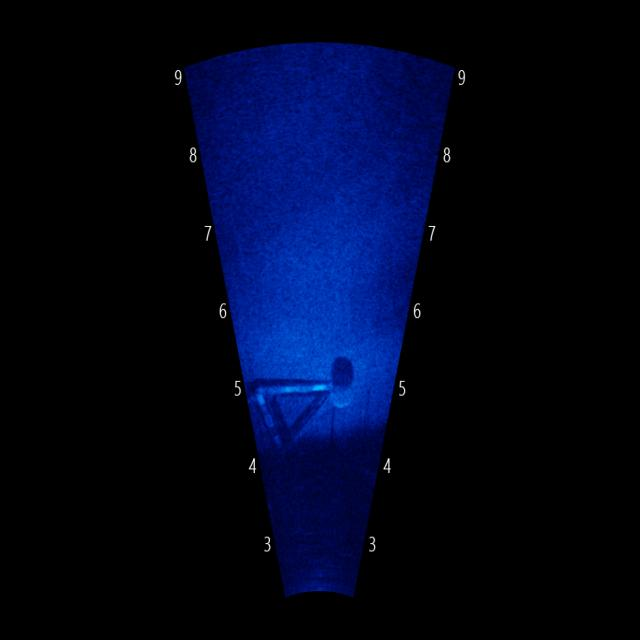triangle: (248, 362, 339, 458)
